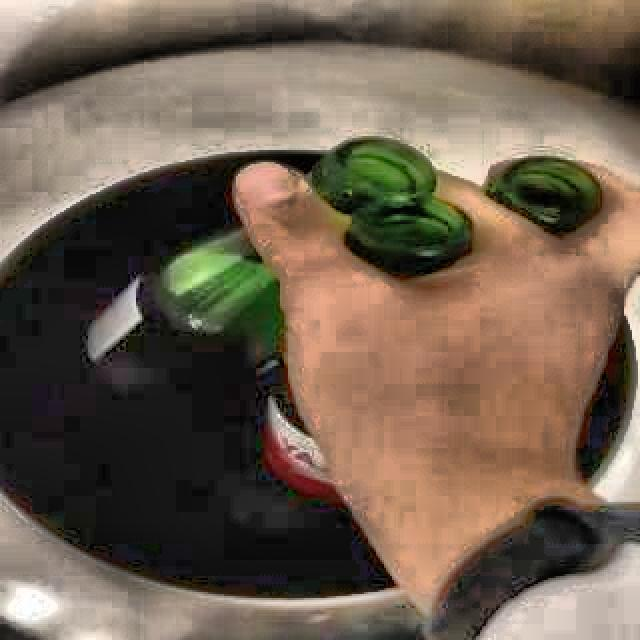glass: (309, 139, 475, 280), (149, 229, 283, 360), (483, 156, 605, 237), (264, 396, 339, 500), (101, 286, 141, 333)
